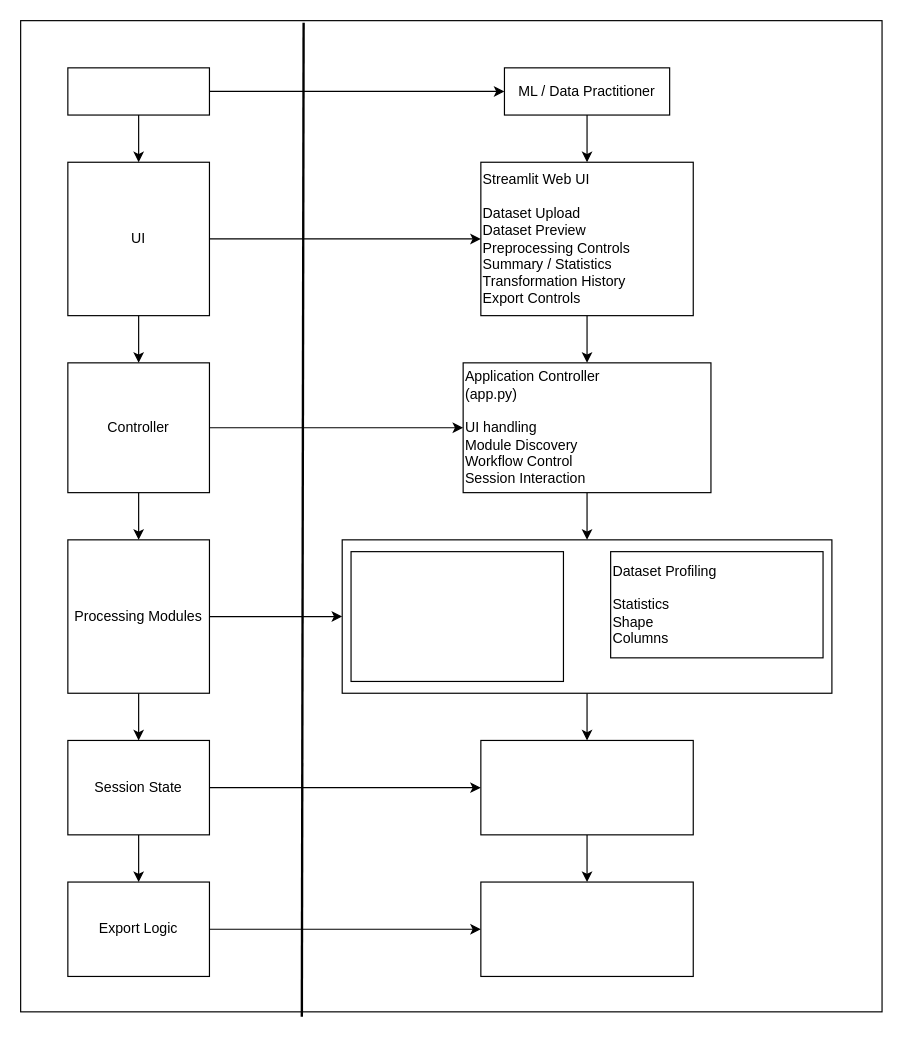
This 903x1040 diagram has some shape labels left out. Here are the shapes that lost their labels. From the top down, the centre of each, then its label:
At (138,91): "User".
At (456,615): "Preprocessing Modules Missing Data Duplicates Outliers Datatypes etc.".
At (586,787): "Session State Current Dataframe Transformation History Dataset metadata".
At (586,928): "Exporter CSV export XLSX export".
